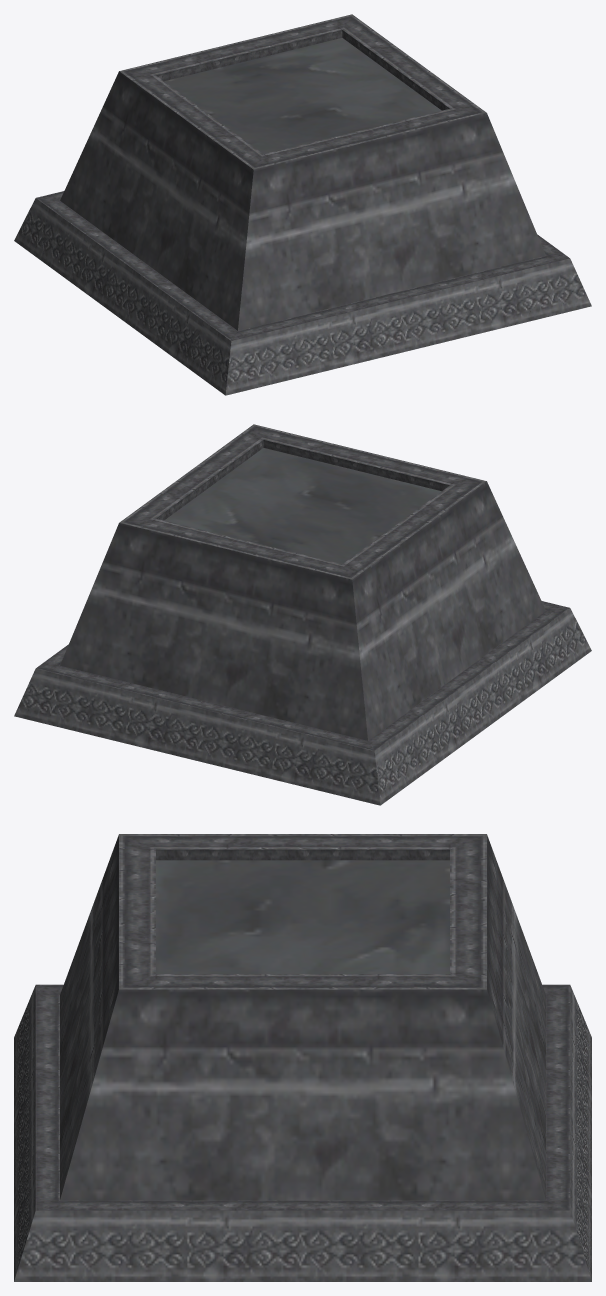
The picture shows the model from 3 angles, top to bottom: view 1: azimuth 30°, elevation 25°; view 2: azimuth 150°, elevation 25°; view 3: azimuth 270°, elevation 25°; orthographic projection. The views are drawn at different scales.
Visible parts, largest first — view 1: Cube.259; view 2: Cube.259; view 3: Cube.259.
Boxes of the visible parts, box(x1,y1,x2,y2) form: Cube.259: box(14, 14, 591, 395); Cube.259: box(14, 424, 591, 805); Cube.259: box(14, 834, 591, 1281).
Bounding box in the file's own units: 1.06 × 0.5 × 1.06.
